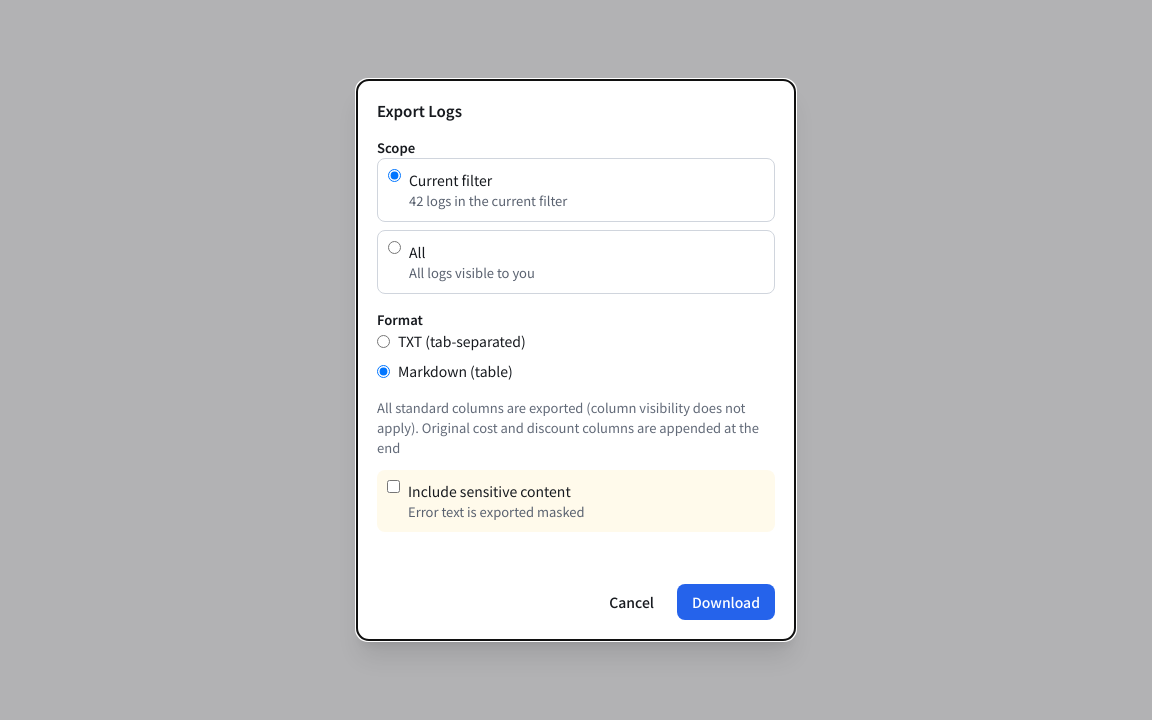
ExportDialog (F-05-07) › keeps scope/format/error when external props change while open
The width and height of the screenshot is (1152, 720).
Click the radio button with test id "export-scope-all": {"x": 394, "y": 248} top-left (388, 241), bottom-right (401, 254)
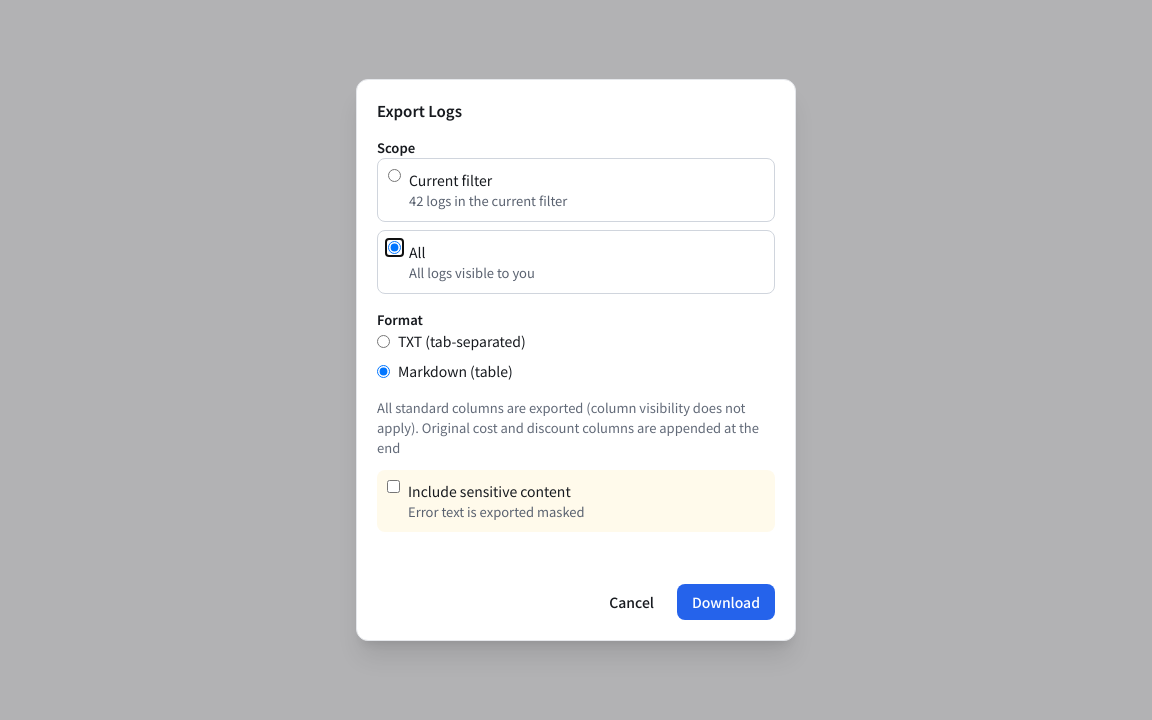
Click the radio button with test id "export-format-txt": {"x": 384, "y": 341} top-left (377, 334), bottom-right (390, 348)
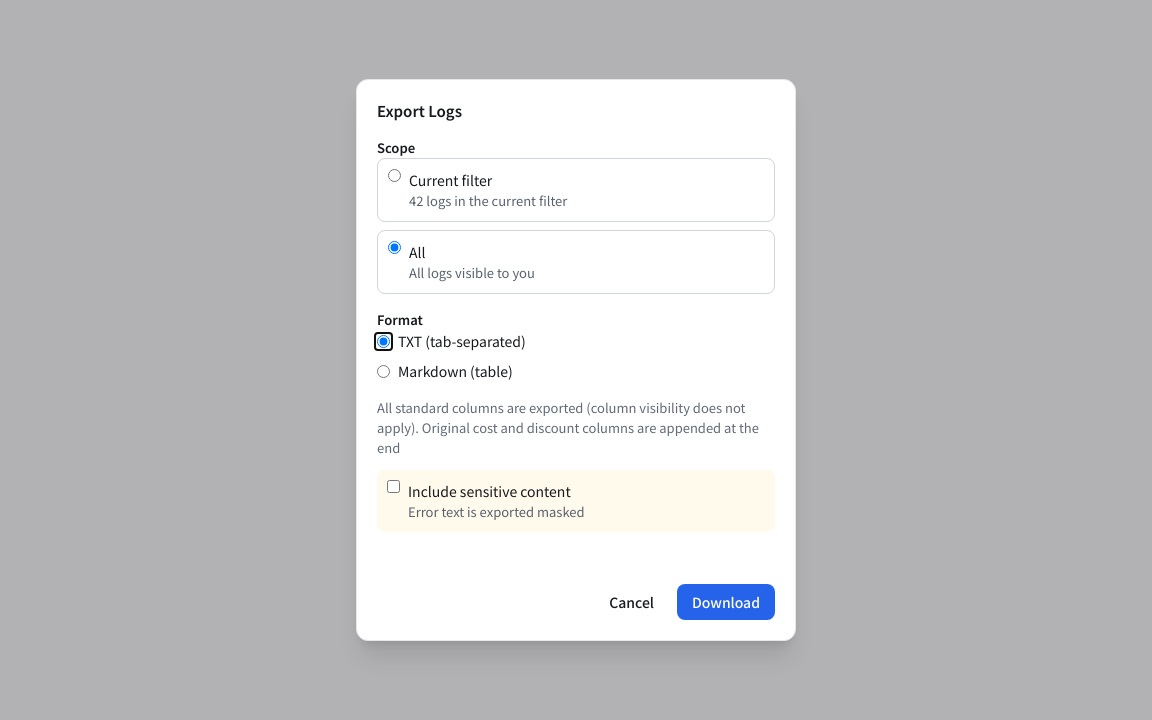
Click the button with test id "export-download": {"x": 726, "y": 602} top-left (677, 584), bottom-right (775, 620)
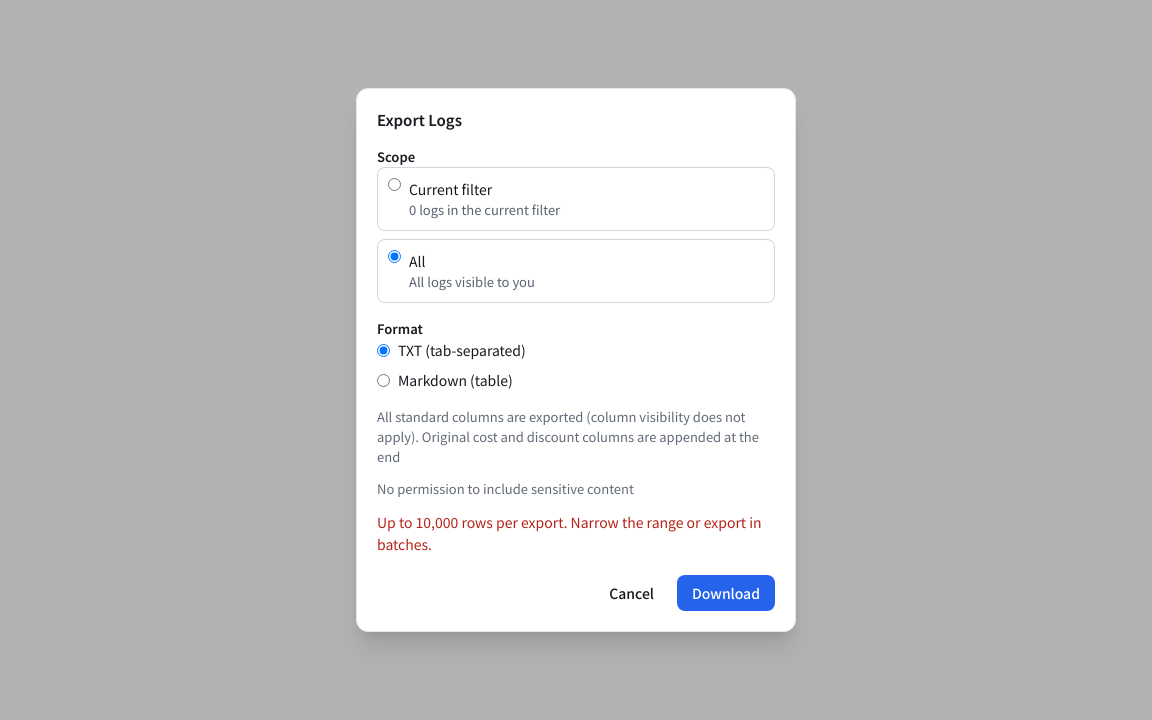
Check: the radio button with test id "export-scope-all" is checked, box top-left (388, 250), bottom-right (401, 263)
Check: the radio button with test id "export-format-txt" is checked, box top-left (377, 344), bottom-right (390, 356)
Check: the message "Up to 10,000 rows per export. Narrow the range or export in batches." is shown, box top-left (377, 511), bottom-right (775, 555)
